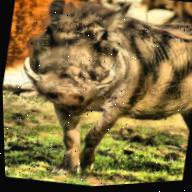boar: (4, 0, 192, 187)
